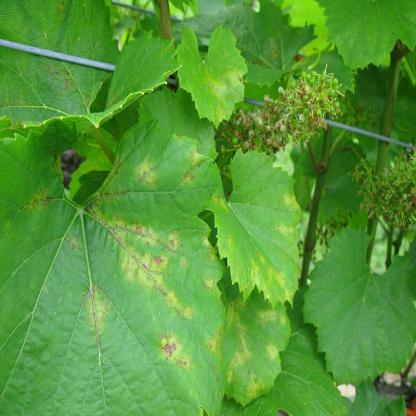grape leaf black rot: (1, 121, 227, 408), (210, 150, 303, 305), (223, 281, 292, 404), (177, 21, 250, 129)
